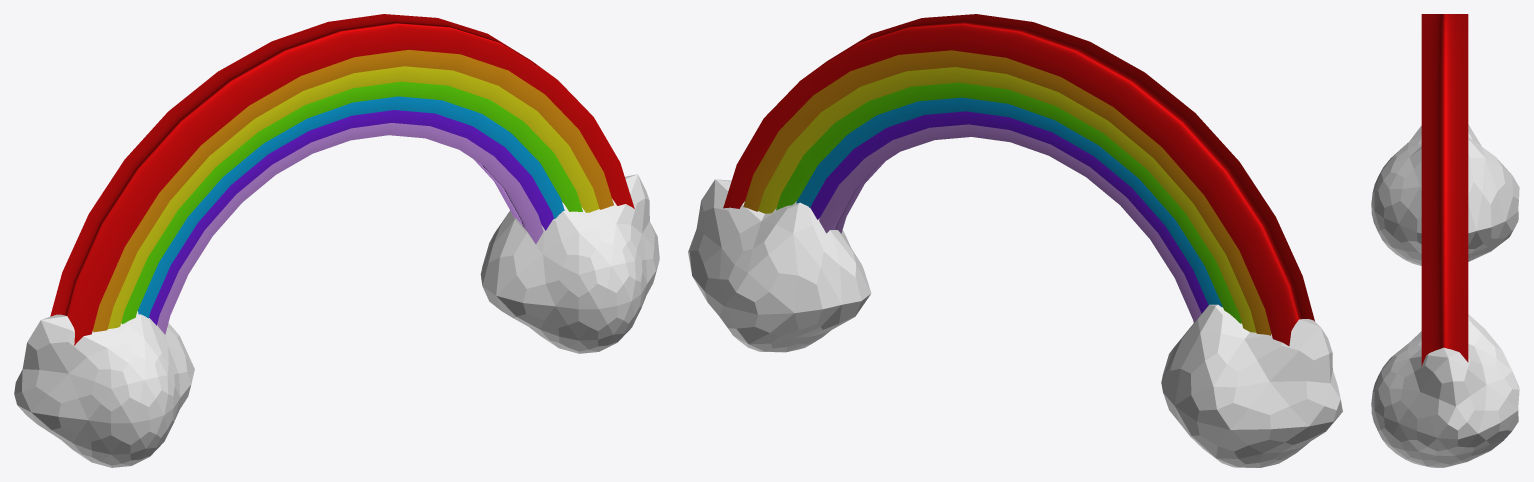
File: rainbow.fbx
3 renders of one model, left to right at view 1: azimuth 30°, elevation 25°; view 2: azimuth 150°, elevation 25°; view 3: azimuth 270°, elevation 25°, orthographic. The views are drawn at different scales.
Visible parts, largest first — view 1: Icosphere, Cylinder, Cylinder.001, Cylinder.002, Cylinder.003, Cylinder.004, Cylinder.006, Cylinder.005; view 2: Icosphere, Cylinder, Cylinder.001, Cylinder.002, Cylinder.003, Cylinder.004, Cylinder.006, Cylinder.005; view 3: Icosphere, Cylinder.
Boxes of the visible parts, x1,y1,x2,y2 form: Icosphere: (14, 174, 659, 467); Cylinder: (50, 14, 634, 345); Cylinder.001: (93, 49, 613, 332); Cylinder.002: (108, 66, 599, 328); Cylinder.003: (121, 81, 582, 324); Cylinder.004: (137, 96, 564, 318); Cylinder.006: (157, 123, 543, 334); Cylinder.005: (149, 110, 553, 325); Icosphere: (688, 179, 1342, 467); Cylinder: (723, 14, 1314, 345); Cylinder.001: (743, 50, 1271, 335); Cylinder.002: (758, 67, 1256, 332); Cylinder.003: (776, 82, 1241, 323); Cylinder.004: (796, 97, 1222, 307); Cylinder.006: (819, 124, 1201, 322); Cylinder.005: (810, 111, 1208, 313); Icosphere: (1371, 124, 1519, 467); Cylinder: (1421, 14, 1468, 366).
Size of the model in its own units: 1113 by 616 by 256.
